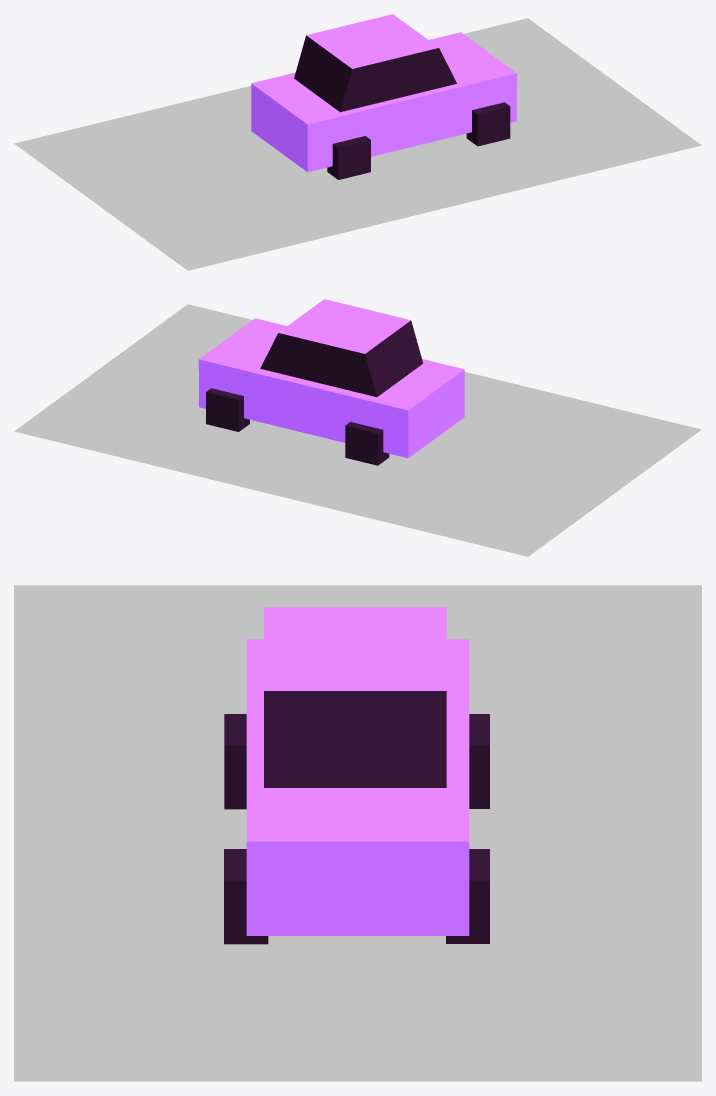
3 views of the same model, one above another, from view 1: azimuth 30°, elevation 25°; view 2: azimuth 150°, elevation 25°; view 3: azimuth 270°, elevation 25° (orthographic). The views are drawn at different scales.
Visible parts, largest first — view 1: Plane, Car; view 2: Plane, Car; view 3: Plane, Car.
Boxes of the visible parts, left/top/right/bottom form: Plane: left=14, top=18, right=701, bottom=270; Car: left=251, top=14, right=517, bottom=179; Plane: left=14, top=304, right=701, bottom=556; Car: left=198, top=299, right=464, bottom=465; Plane: left=14, top=585, right=701, bottom=1081; Car: left=224, top=607, right=489, bottom=944.
Size of the model in its own units: 1053 by 196 by 617.
